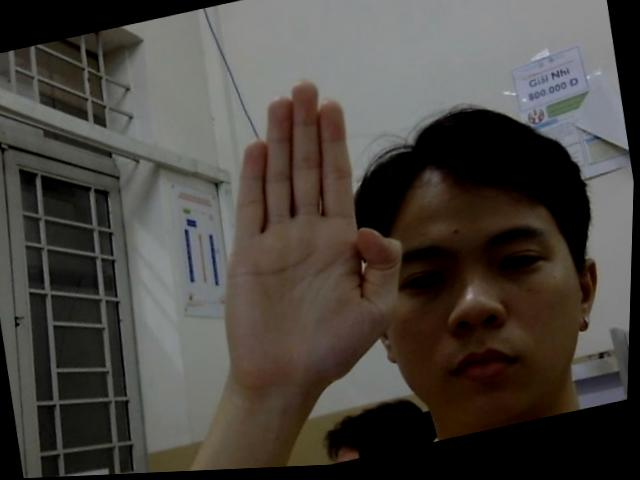B: (169, 56, 432, 405)
